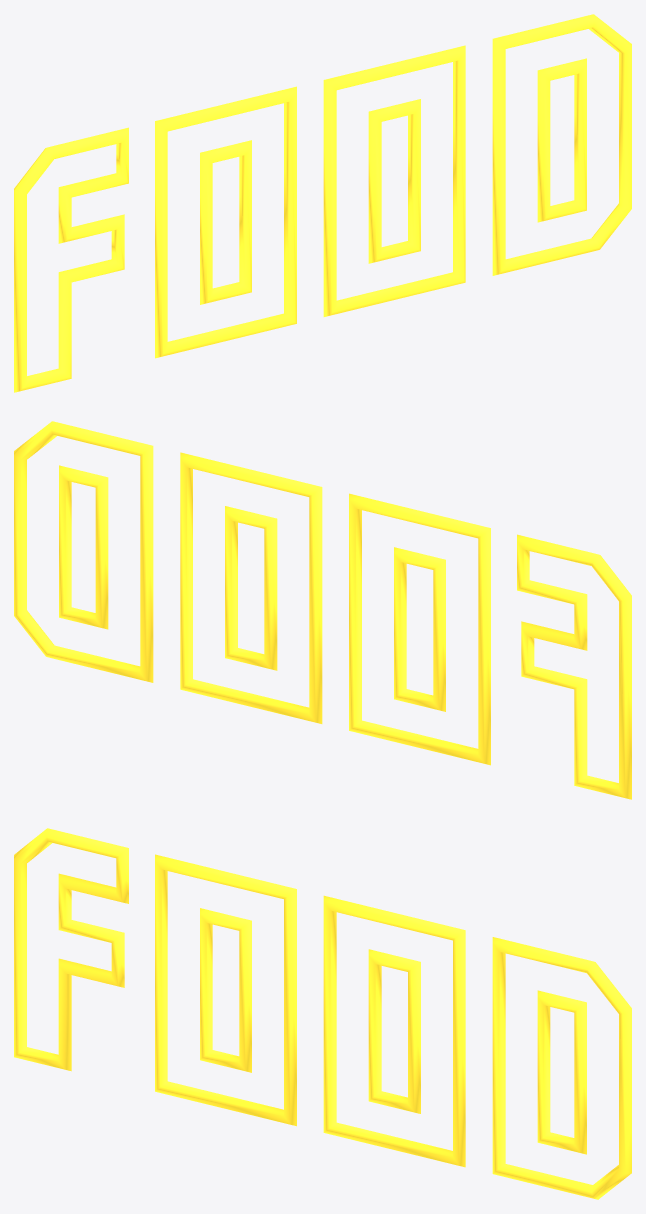
Rendered from 359fe0b6-cb5f-4f7b-a247-04f27a3bfb87.glb.
The picture shows the model from 3 angles, top to bottom: view 1: azimuth 30°, elevation 25°; view 2: azimuth 150°, elevation 25°; view 3: azimuth 330°, elevation 25°; orthographic projection.
Parts seen in each view (by area): view 1: NeonSignFood; view 2: NeonSignFood; view 3: NeonSignFood.
Part boxes in pixels (x1,y1,x2,y2): NeonSignFood: (14, 14, 631, 392); NeonSignFood: (14, 421, 631, 799); NeonSignFood: (14, 828, 631, 1199).
Size of the model in its own units: 0.8076 by 0.2963 by 0.0145.
1 material, 1 textured.
